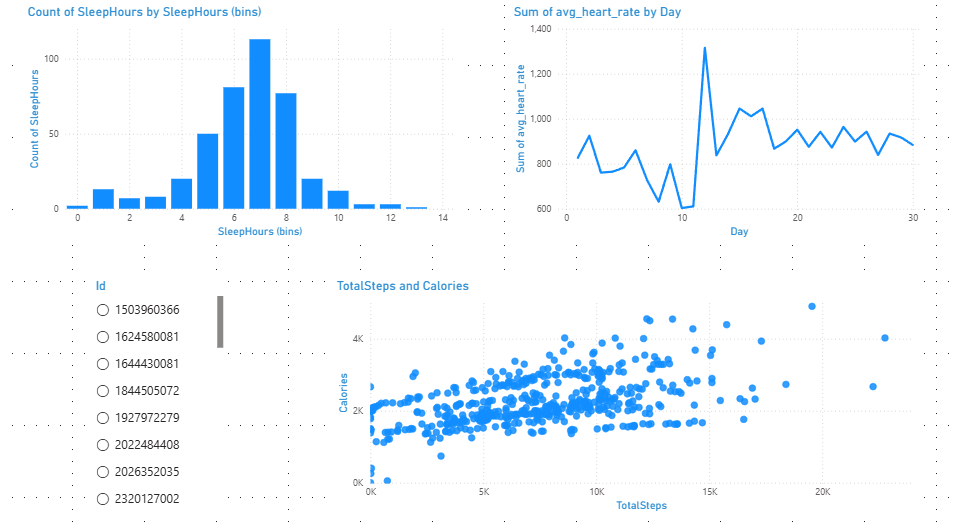

The page's visual inventory and layout, read from the dashboard file:
{"tool":"powerbi","page":{"name":"Activity & Health Analysis","canvas":[1280,720],"ordinal":1},"visuals":[{"type":"scatterChart","fields":{"Y":["daily_activity_clean.Calories"],"X":["daily_activity_clean.TotalSteps"]},"box":[444,380,788,316],"z":0},{"type":"clusteredColumnChart","fields":{"Y":["CountNonNull(sleep_clean.SleepHours)"],"Category":["sleep_clean.SleepHours (bins)"]},"box":[32,14,578,316],"z":1000},{"type":"lineChart","fields":{"Category":["heart_rate_daily.Date.Variation.Date Hierarchy.Day"],"Y":["Sum(heart_rate_daily.avg_heart_rate)"]},"box":[680,14,552,316],"z":2000},{"type":"listSlicer","fields":{"Values":["daily_activity_clean.Id"]},"box":[122,380,180,316],"z":3000}]}

Visuals, with their boxes in screenshot pixels (x1, y1, x2, y2), scaled from the page's 1280x720 canvas onto the 959x529 screenshot:
scatterChart - daily_activity_clean.Calories x daily_activity_clean.TotalSteps: [333, 279, 923, 511]
clusteredColumnChart - CountNonNull(sleep_clean.SleepHours) x sleep_clean.SleepHours (bins): [24, 10, 457, 242]
lineChart - heart_rate_daily.Date.Variation.Date Hierarchy.Day x Sum(heart_rate_daily.avg_heart_rate): [509, 10, 923, 242]
listSlicer - daily_activity_clean.Id: [91, 279, 226, 511]
